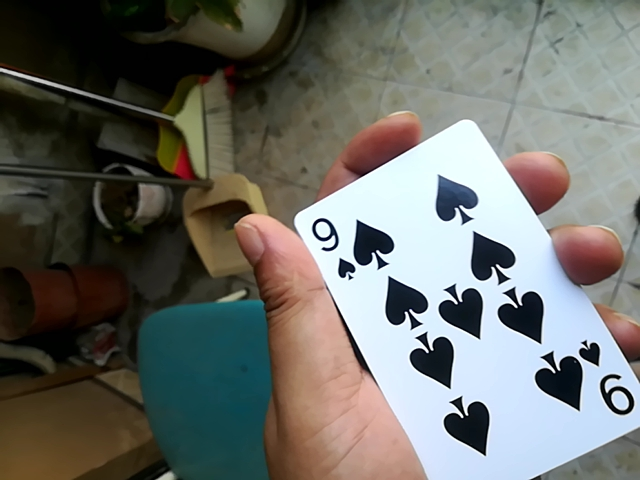ht 9: (288, 122, 635, 479)
